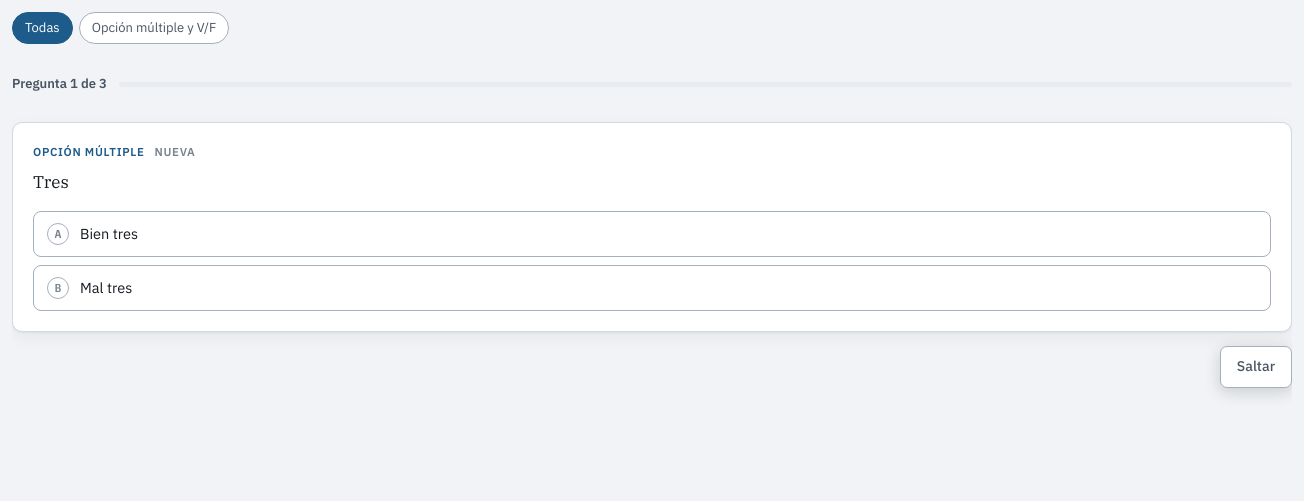
Test: práctica de un tema › el contador avanza: pregunta 1, 2, 3
Expected: the text "Pregunta 1 de 3" is shown, [12, 74, 107, 94]
Click the text "Bien tres" at (109, 234), box [80, 223, 138, 244]
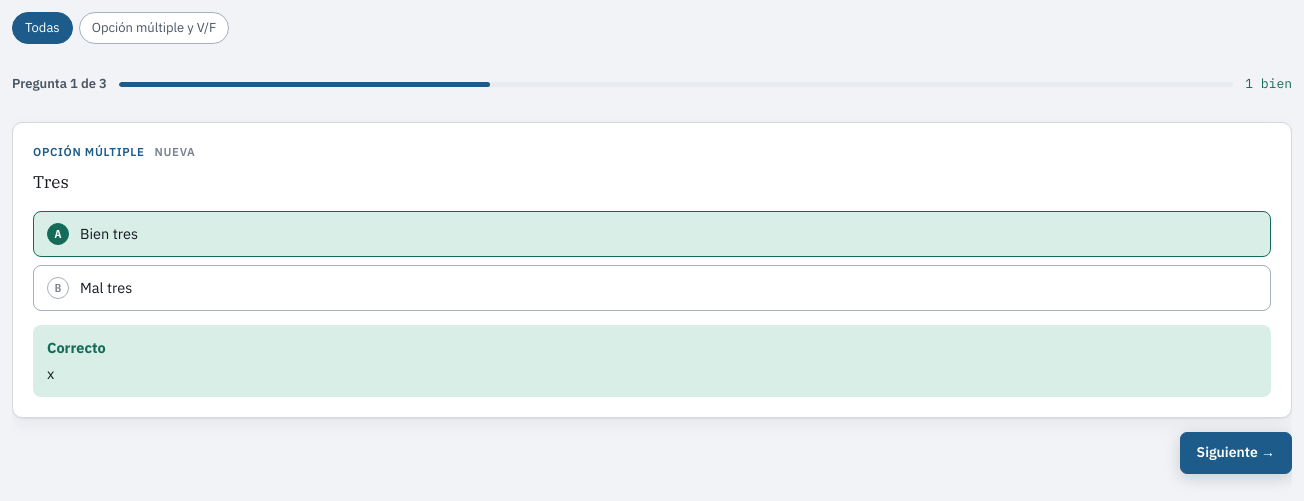
Click the button "Siguiente →" at (1236, 453), box [1180, 432, 1292, 474]
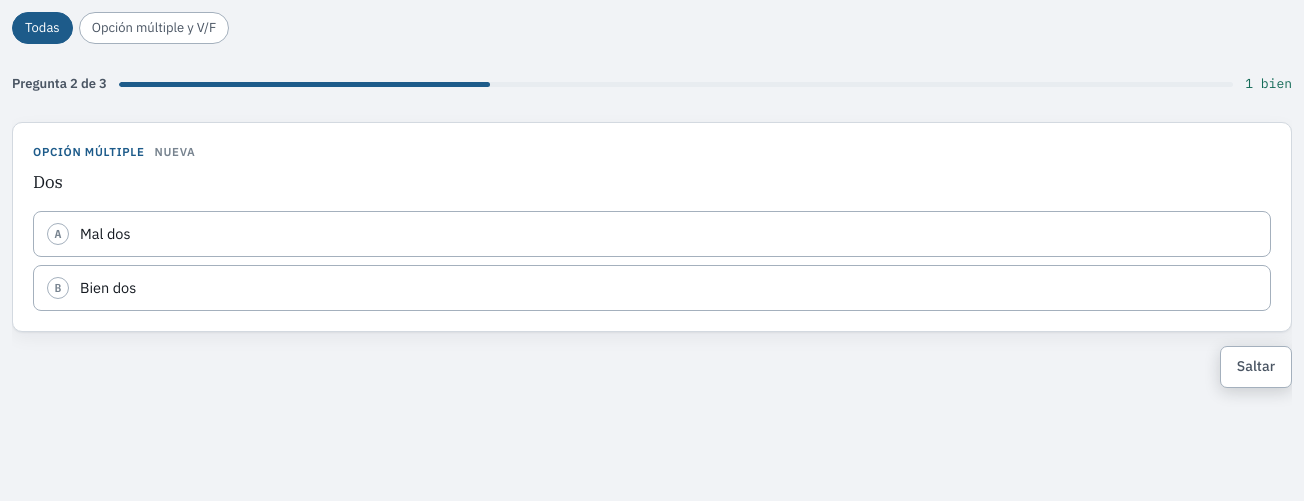
Now the text "Pregunta 2 de 3" is shown, box [12, 74, 107, 94]
Click the text "Bien dos" at (108, 288), box [80, 277, 136, 298]
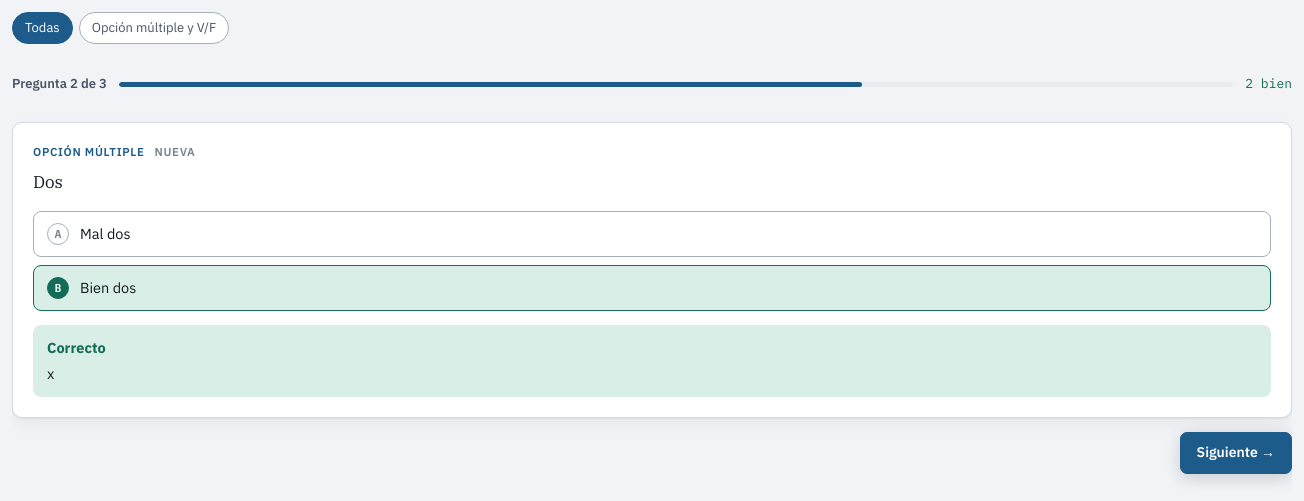
Click the button "Siguiente →" at (1236, 453), box [1180, 432, 1292, 474]
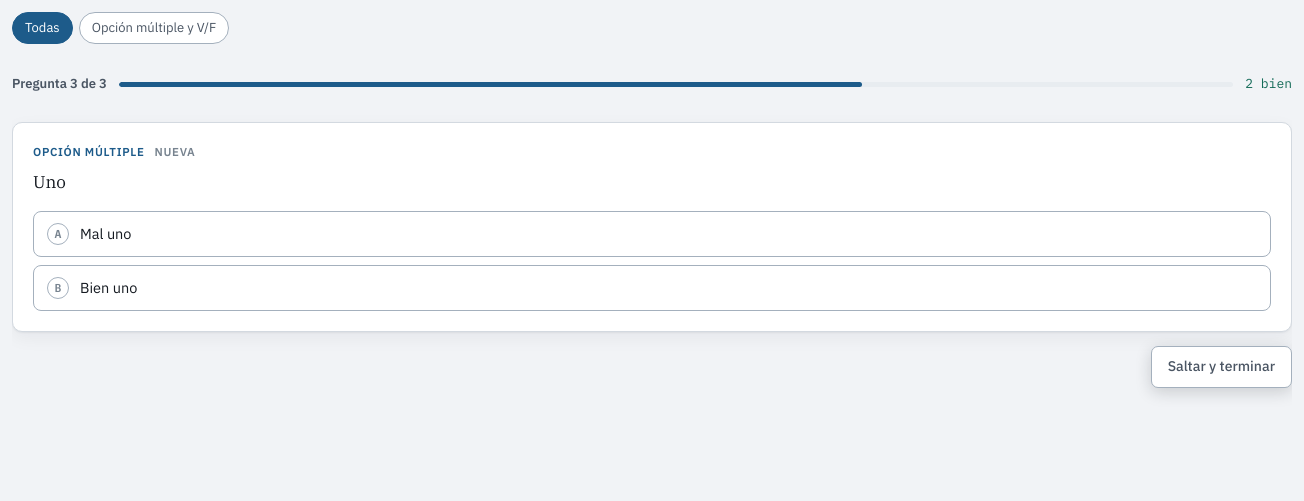
Now the text "Pregunta 3 de 3" is shown, box [12, 74, 107, 94]
